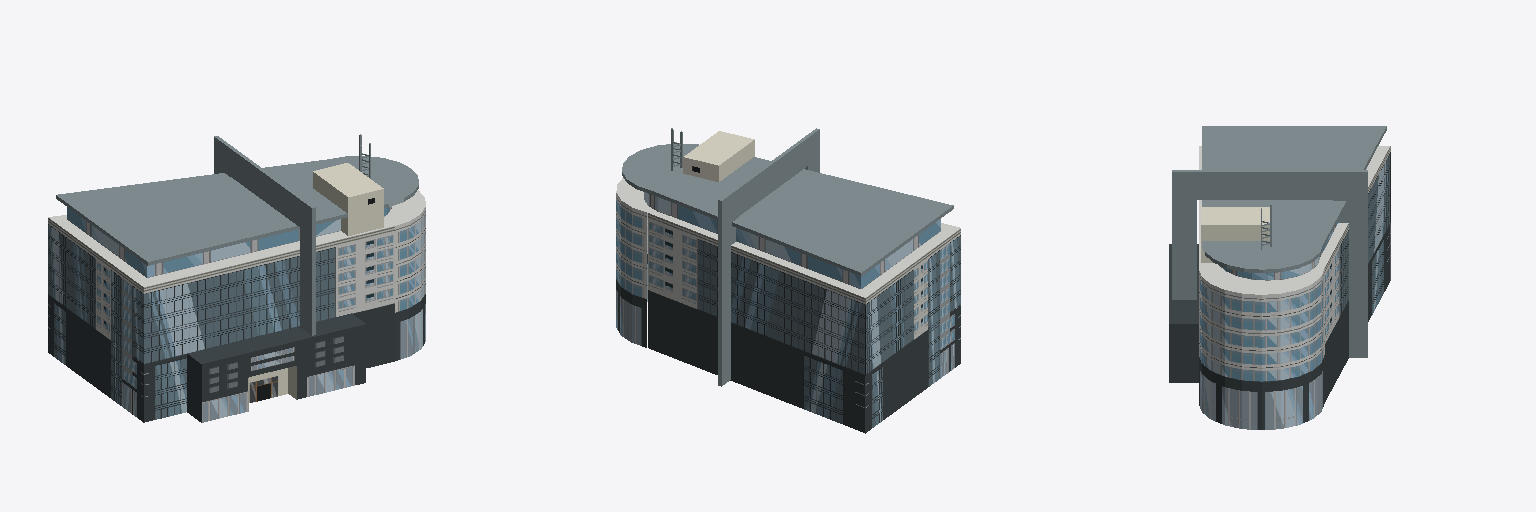
3 renders of one model, left to right at view 1: azimuth 30°, elevation 25°; view 2: azimuth 150°, elevation 25°; view 3: azimuth 270°, elevation 25°, orthographic.
Parts seen in each view (by area): view 1: BldgC2; view 2: BldgC2; view 3: BldgC2.
Part boxes in pixels (bbox=[...]): BldgC2: bbox=[48, 134, 425, 422]; BldgC2: bbox=[616, 128, 960, 433]; BldgC2: bbox=[1169, 126, 1390, 429].
Size of the model in its own units: 572 by 357 by 358.
1 materials, 1 textured.